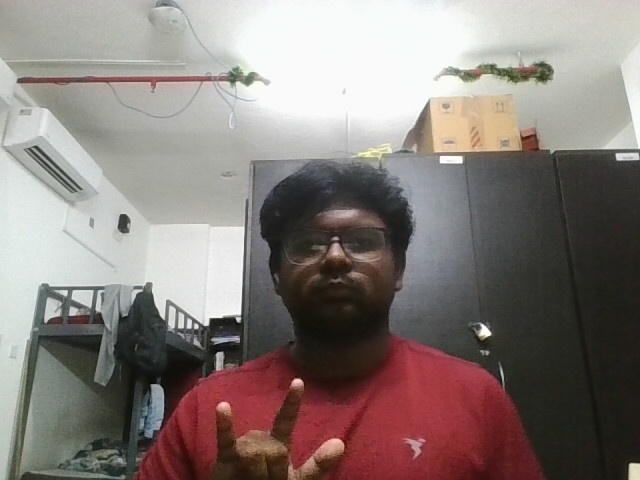I Love You: (196, 370, 361, 480)
